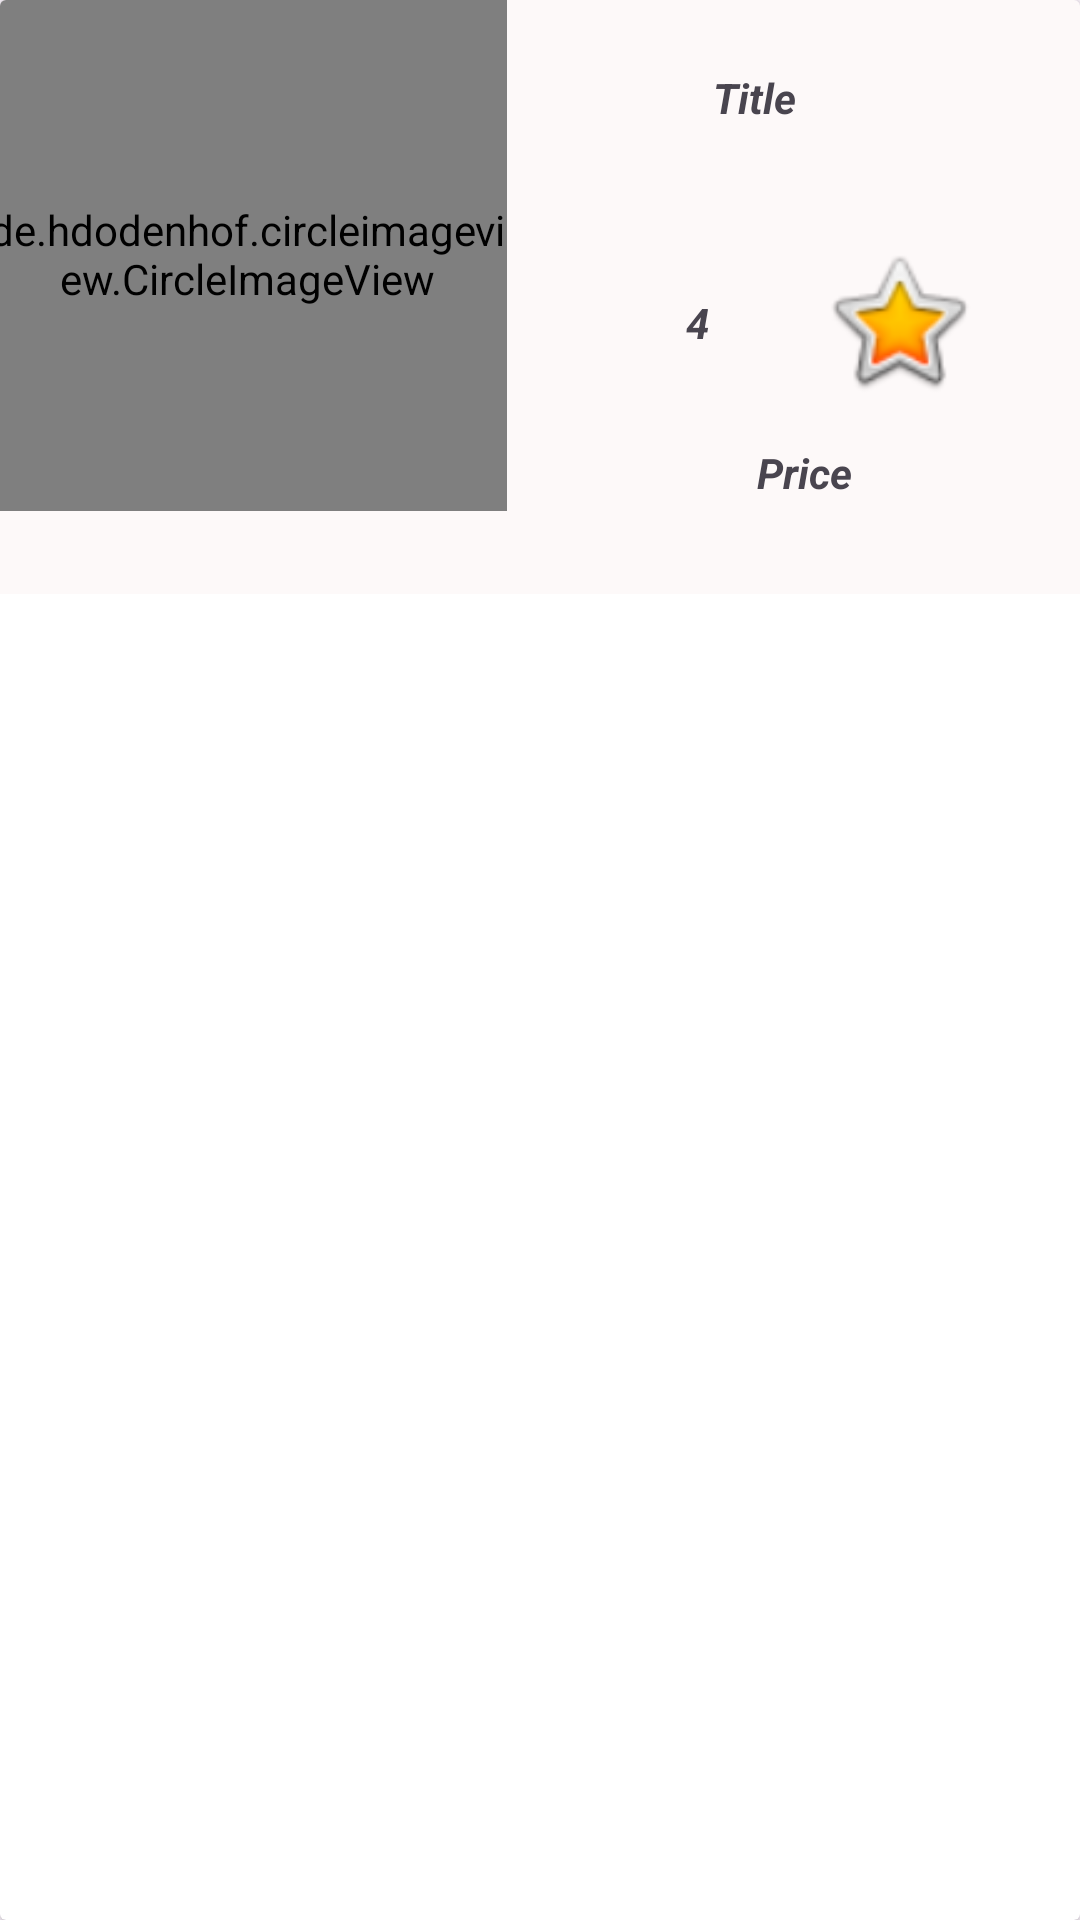

Named icons in this screenshot (1080 x 1920) and their bounding boxes, (x1, y1, x2, y2):
star on: (833, 258, 966, 387)
